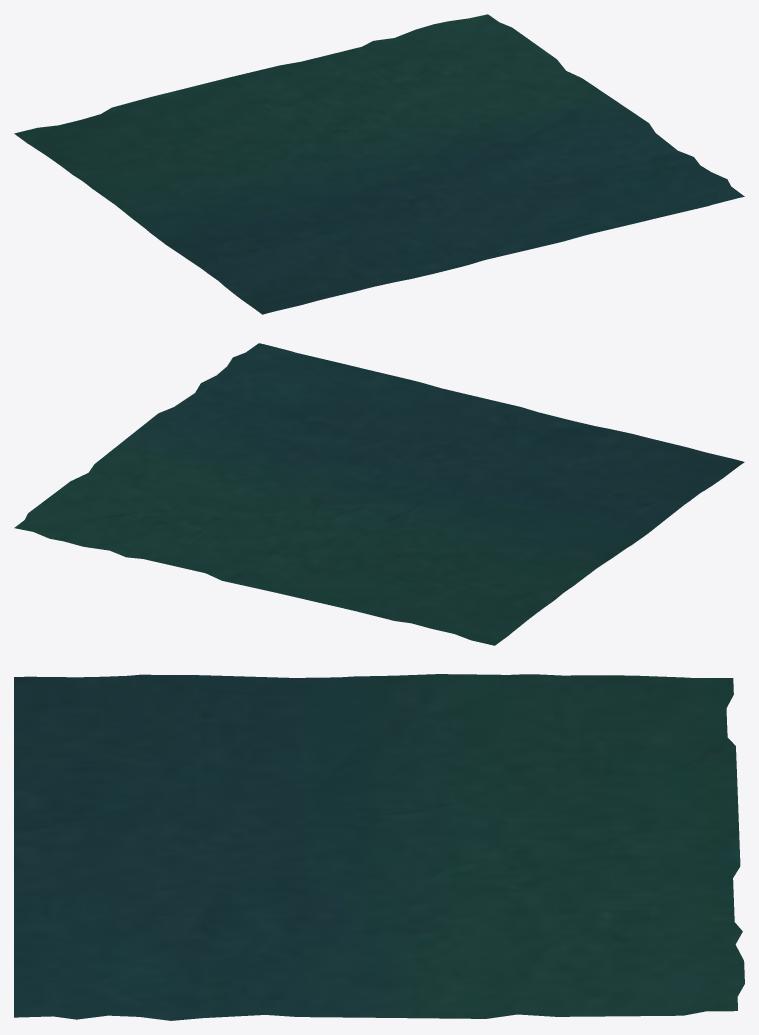
3 renders of one model, top to bottom at view 1: azimuth 30°, elevation 25°; view 2: azimuth 150°, elevation 25°; view 3: azimuth 270°, elevation 25°, orthographic. The views are drawn at different scales.
Size of the model in its own units: 103 by 0.8209 by 92.84.
1 material, 1 textured.
